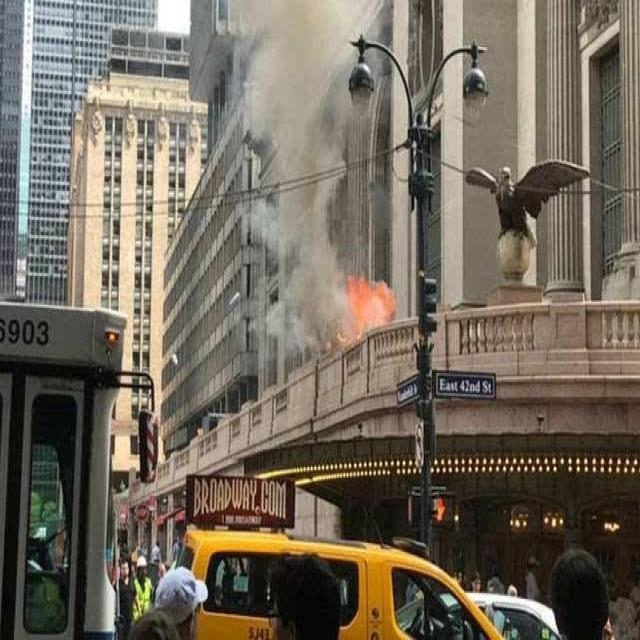Fire: (336, 272, 398, 344)
Smoke: (227, 1, 391, 361)
